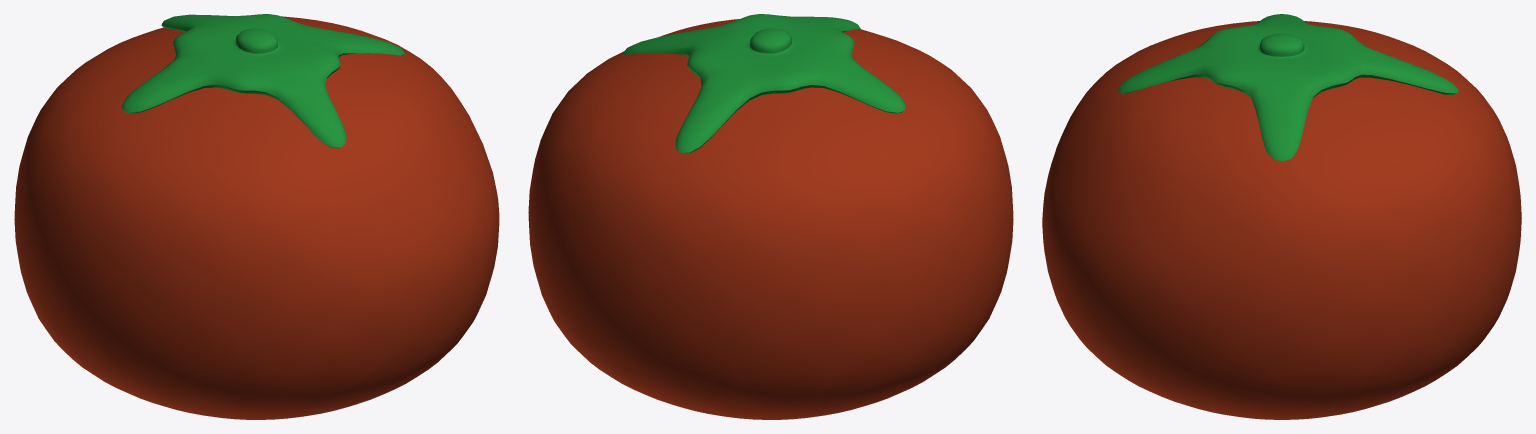
Rendered from Tomato.fbx.
The picture shows the model from 3 angles, left to right: view 1: azimuth 30°, elevation 25°; view 2: azimuth 150°, elevation 25°; view 3: azimuth 270°, elevation 25°; orthographic projection.
Parts seen in each view (by area): view 1: Sphere, Cube; view 2: Sphere, Cube; view 3: Sphere, Cube.
Part boxes in pixels (x1,y1,x2,y2): Sphere: (14, 16, 499, 419); Cube: (121, 14, 404, 148); Sphere: (528, 19, 1013, 419); Cube: (623, 14, 906, 153); Sphere: (1042, 21, 1521, 419); Cube: (1117, 14, 1458, 161).
Size of the model in its own units: 191 by 157 by 191.
